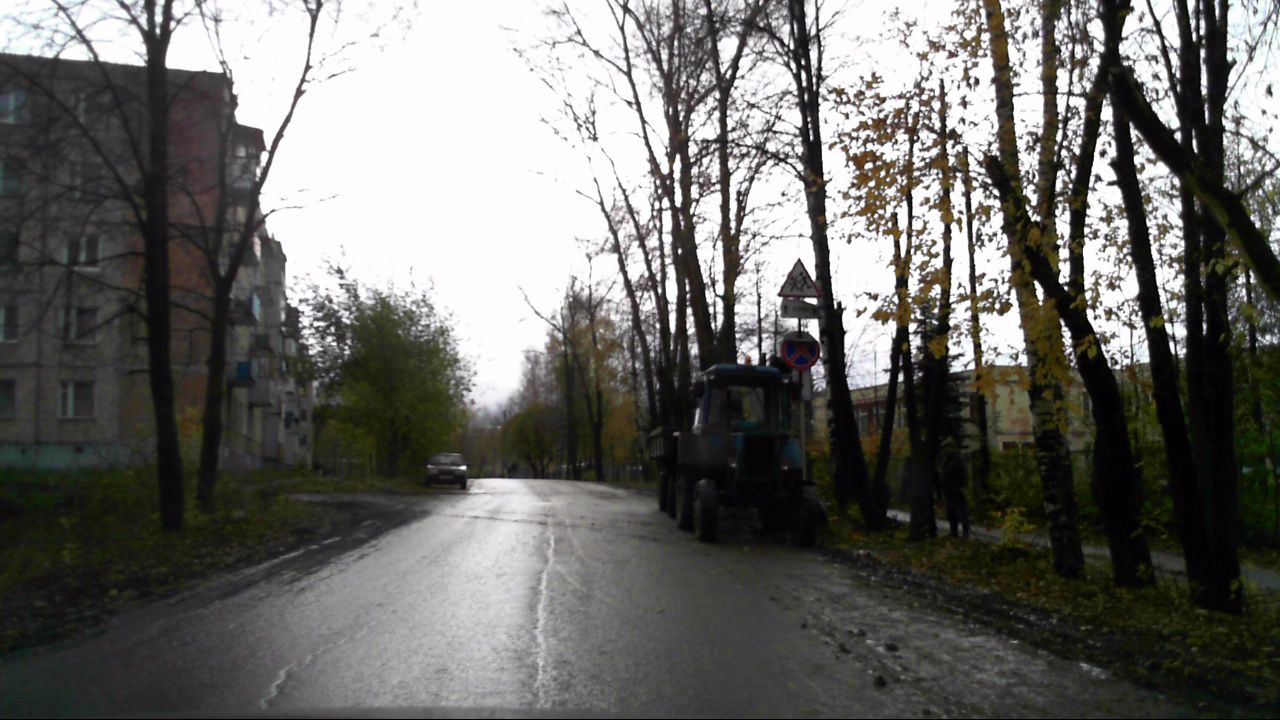No Parking: (780, 335, 820, 371)
